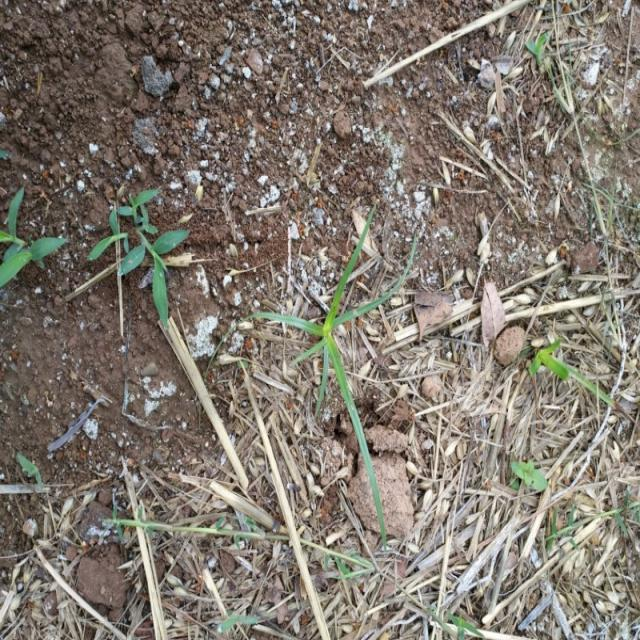sedge: (218, 198, 430, 524)
